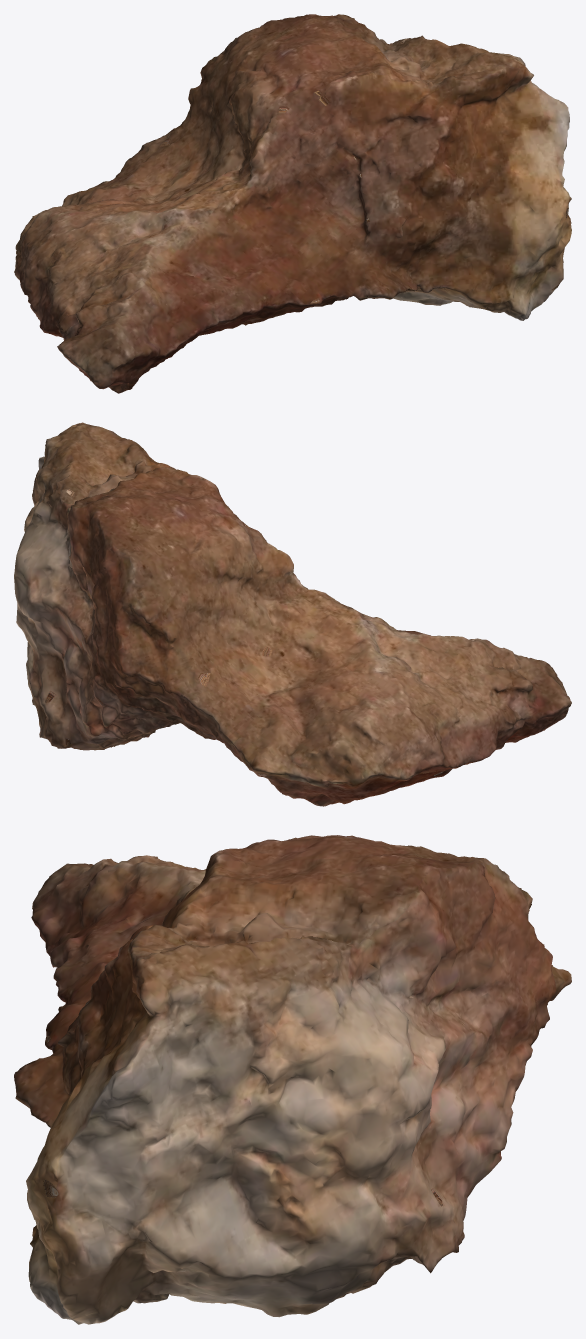
Rendered from Stone_01.glb.
The picture shows the model from 3 angles, top to bottom: view 1: azimuth 30°, elevation 25°; view 2: azimuth 150°, elevation 25°; view 3: azimuth 270°, elevation 25°; orthographic projection. The views are drawn at different scales.
Parts seen in each view (by area): view 1: stone_01; view 2: stone_01; view 3: stone_01.
Boxes of the visible parts, <box> form: stone_01: <box>14,14,571,393</box>; stone_01: <box>14,422,571,806</box>; stone_01: <box>14,835,571,1324</box>.
Bounding box in the file's own units: 0.1469 × 0.0718 × 0.0891.
Materials: 1 (1 with a texture image).
